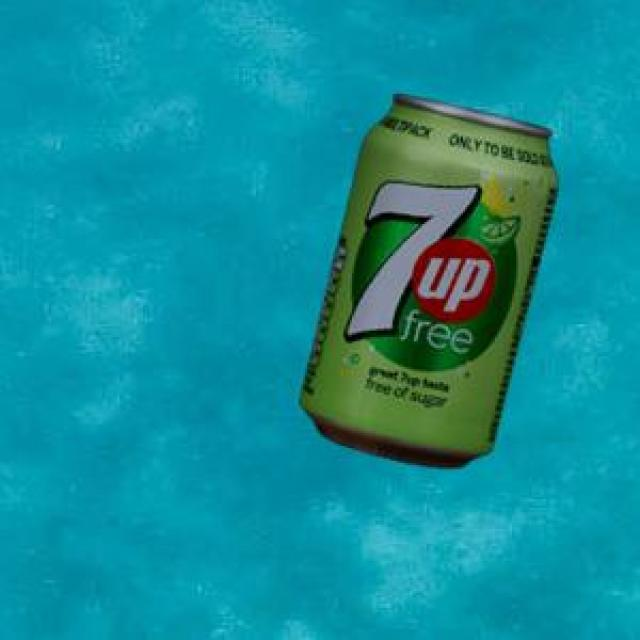Can: (295, 91, 556, 464)
